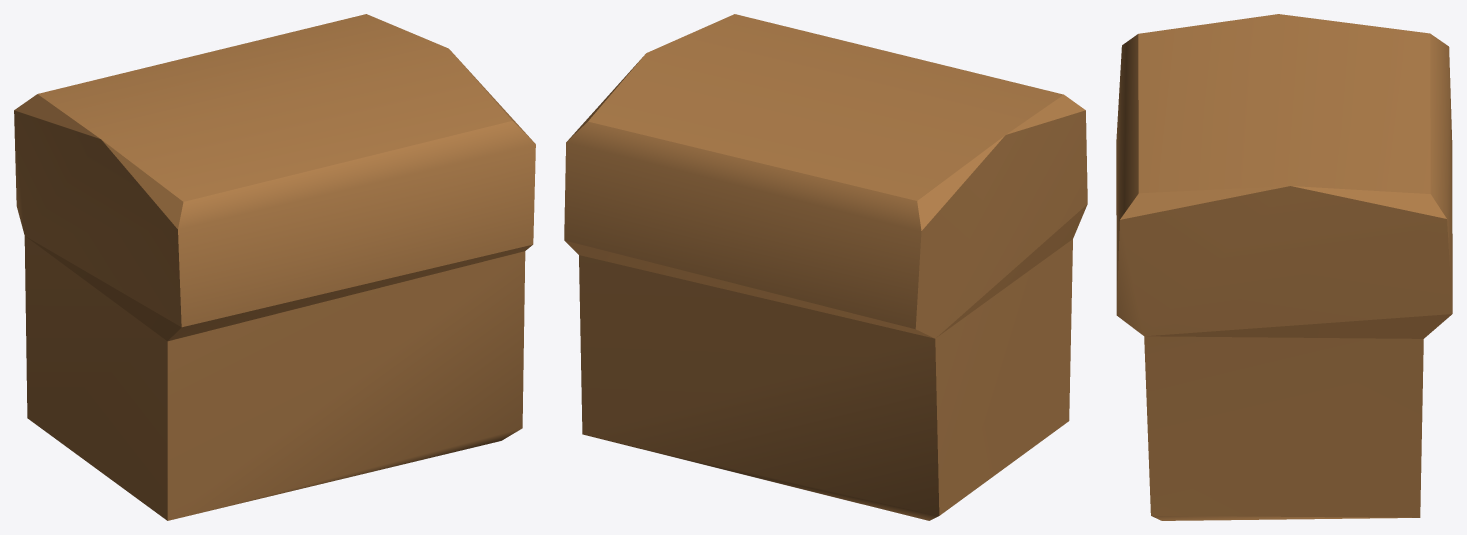
The model's file is Food_03.glb.
3 renders of one model, left to right at view 1: azimuth 30°, elevation 25°; view 2: azimuth 150°, elevation 25°; view 3: azimuth 270°, elevation 25°, orthographic.
Parts seen in each view (by area): view 1: Food_03_LOD0; view 2: Food_03_LOD0; view 3: Food_03_LOD0.
Part boxes in pixels (left/top/right/bottom): Food_03_LOD0: left=14, top=14, right=535, bottom=520; Food_03_LOD0: left=564, top=14, right=1087, bottom=520; Food_03_LOD0: left=1116, top=14, right=1452, bottom=520.
Size of what is drawn, in the model's own units: 0.1702 by 0.1541 by 0.1378.
1 material, 1 textured.
